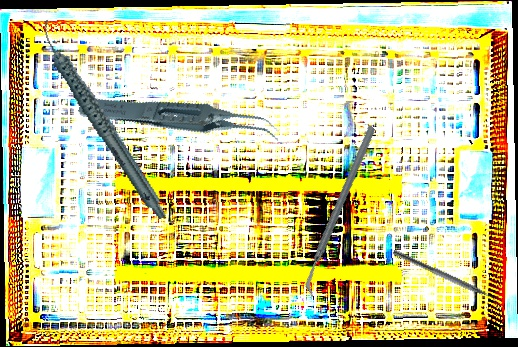Chopper: (253, 124, 429, 298), (388, 248, 505, 311)
Handpiece: (37, 3, 168, 236)
Tissue Forceps: (76, 57, 284, 184)
